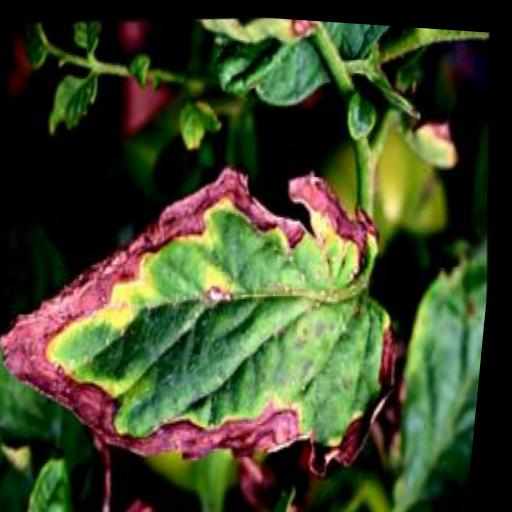Bacterial Spot: (0, 131, 426, 506)
